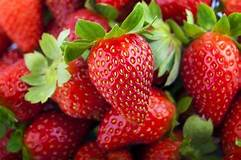Fresa: (79, 27, 159, 131), (173, 27, 241, 128), (95, 83, 177, 153)
